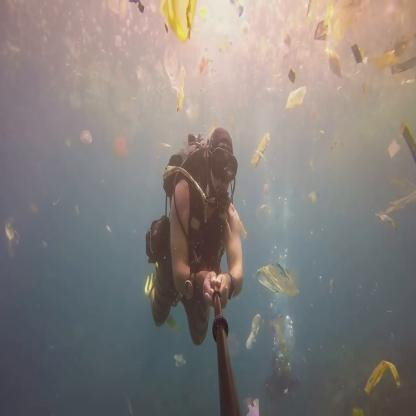Rác: (341, 29, 396, 81), (316, 0, 354, 68), (368, 356, 416, 392), (162, 56, 188, 108), (259, 256, 290, 296), (159, 2, 199, 30), (387, 117, 413, 160), (384, 186, 412, 225), (284, 70, 311, 110), (246, 128, 270, 168), (245, 308, 263, 352), (243, 394, 268, 416), (110, 135, 129, 162), (172, 349, 191, 374)
